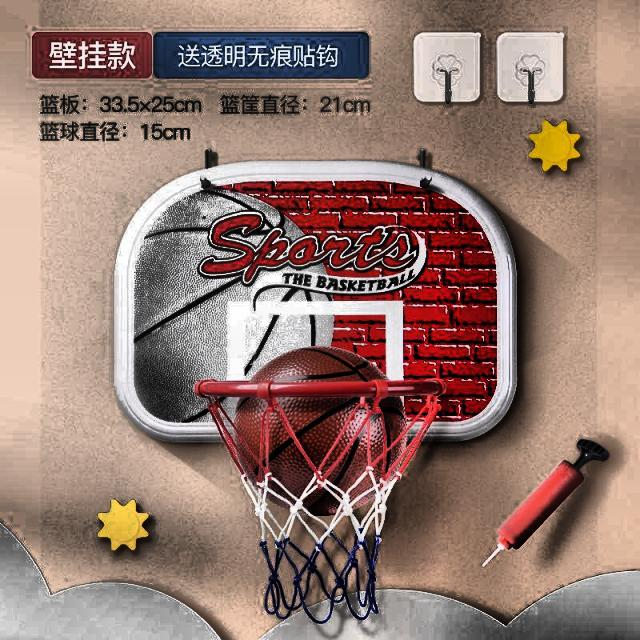rim: (196, 381, 444, 621)
